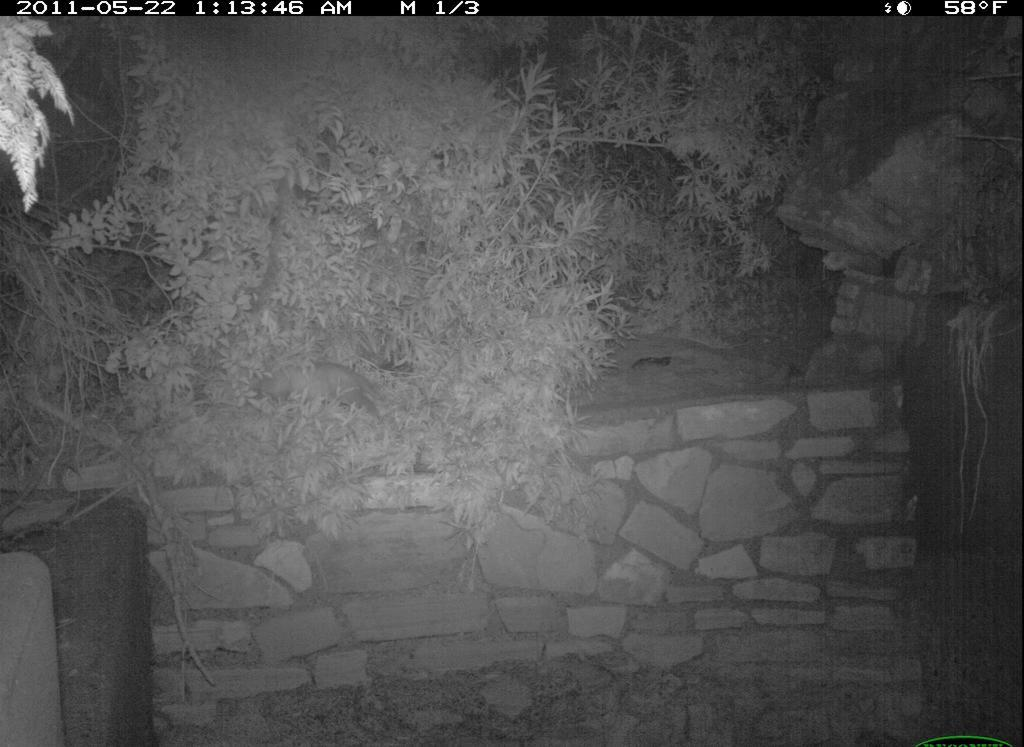opossum: (242, 350, 397, 428)
